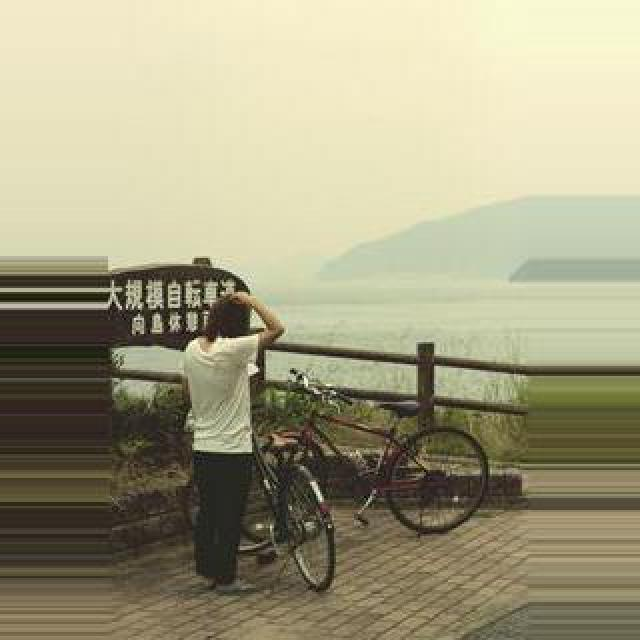MC-Bike: (132, 278, 288, 594)
Person: (270, 372, 486, 536), (188, 403, 334, 595)
